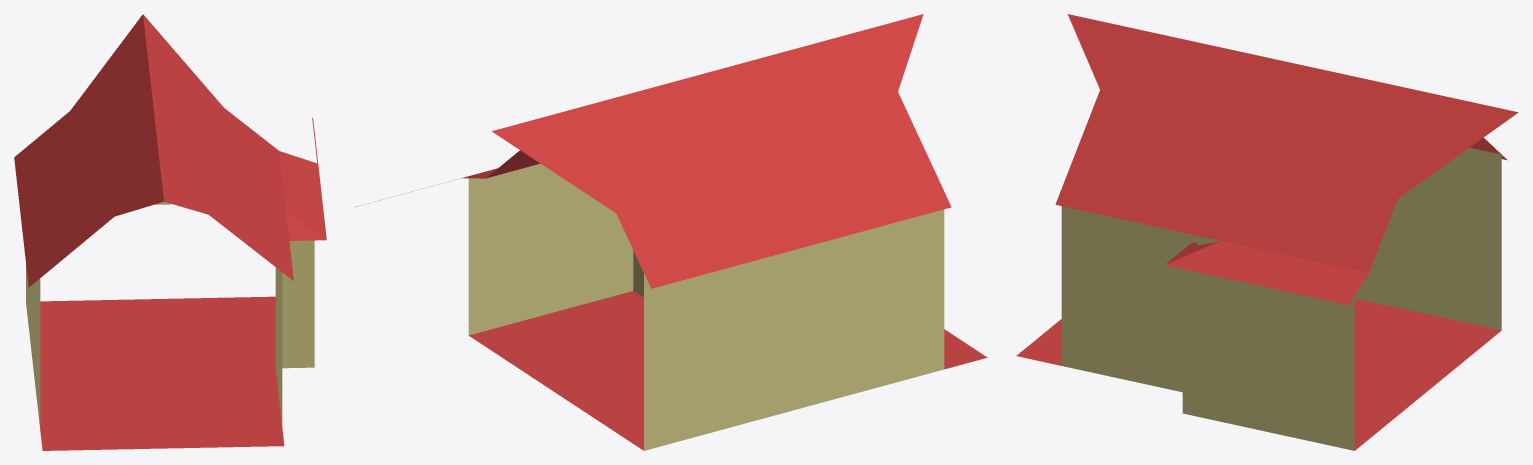
3 views of the same model, side by side, from view 1: azimuth 30°, elevation 25°; view 2: azimuth 150°, elevation 25°; view 3: azimuth 270°, elevation 25° (orthographic). The views are drawn at different scales.
Visible parts, largest first — view 1: group_7, group_10, group_5, group_3, group_6, group_9, group_8; view 2: group_7, group_9, group_5, group_10, group_6, group_8; view 3: group_7, group_9, group_5, group_10, group_3, group_6, group_8.
Boxes of the visible parts, left/top/right/bottom form: group_7: left=14, top=14, right=293, bottom=287; group_10: left=40, top=297, right=284, bottom=450; group_5: left=275, top=240, right=314, bottom=372; group_3: left=279, top=118, right=326, bottom=240; group_6: left=233, top=296, right=275, bottom=373; group_9: left=26, top=202, right=282, bottom=428; group_8: left=16, top=149, right=292, bottom=285; group_7: left=486, top=14, right=951, bottom=288; group_9: left=644, top=209, right=944, bottom=450; group_5: left=468, top=163, right=643, bottom=335; group_10: left=515, top=329, right=987, bottom=450; group_6: left=469, top=291, right=643, bottom=365; group_8: left=645, top=194, right=949, bottom=286; group_7: left=1056, top=14, right=1518, bottom=272; group_9: left=1061, top=147, right=1501, bottom=392; group_5: left=1182, top=269, right=1354, bottom=450; group_10: left=1016, top=298, right=1501, bottom=419; group_3: left=1165, top=241, right=1459, bottom=329; group_6: left=1354, top=411, right=1392, bottom=450; group_8: left=1055, top=155, right=1504, bottom=234.
Size of the model in its own units: 30.21 by 28.16 by 17.77.
